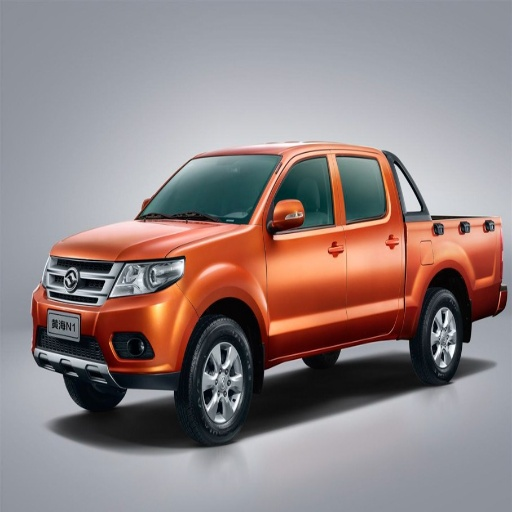back_glass: (334, 150, 404, 330)
back_right_light: (33, 256, 198, 383)
front_bumper: (136, 154, 279, 223)
front_glass: (267, 150, 348, 350)
front_left_door: (113, 256, 185, 297)
front_right_light: (52, 220, 245, 261)
tailgate: (407, 215, 502, 325)
trunk: (181, 318, 255, 444), (413, 289, 464, 383), (69, 379, 122, 411)
